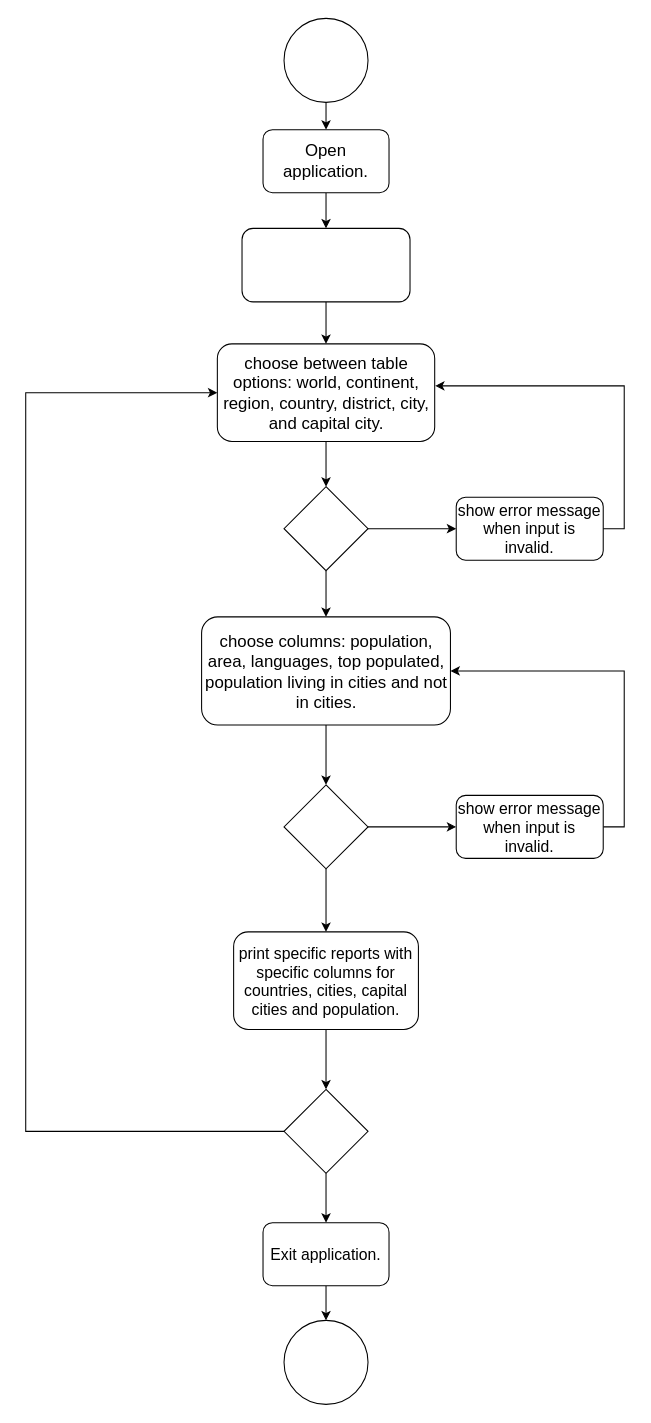
Image size: 651x1423. Some labels were removed from this diagram. Here are the shapes that lost their labels. From the top down, the box of each, then its label:
(283, 17, 368, 102): start
(241, 227, 410, 302): provide a list of all available choices for all tables.
(283, 1319, 368, 1404): stop
